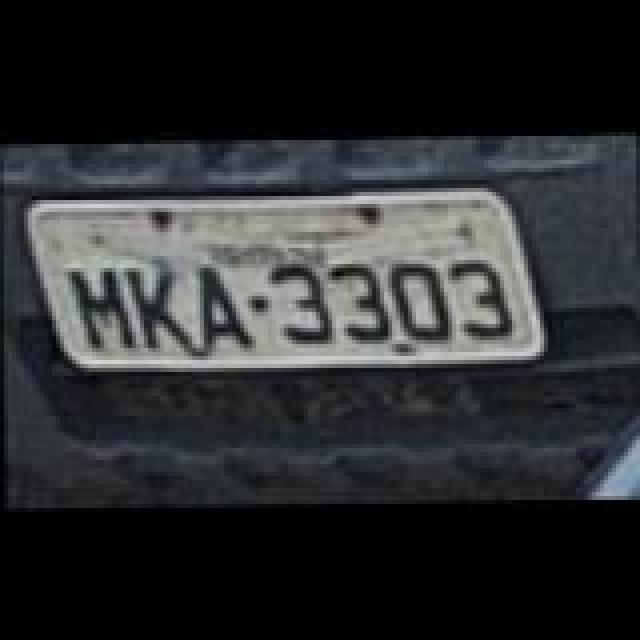3: (330, 260, 394, 340), (454, 258, 518, 338), (276, 260, 336, 340)
A: (196, 262, 256, 350)
D: (390, 258, 454, 338)
K: (128, 262, 196, 350)
M: (72, 260, 140, 348)
